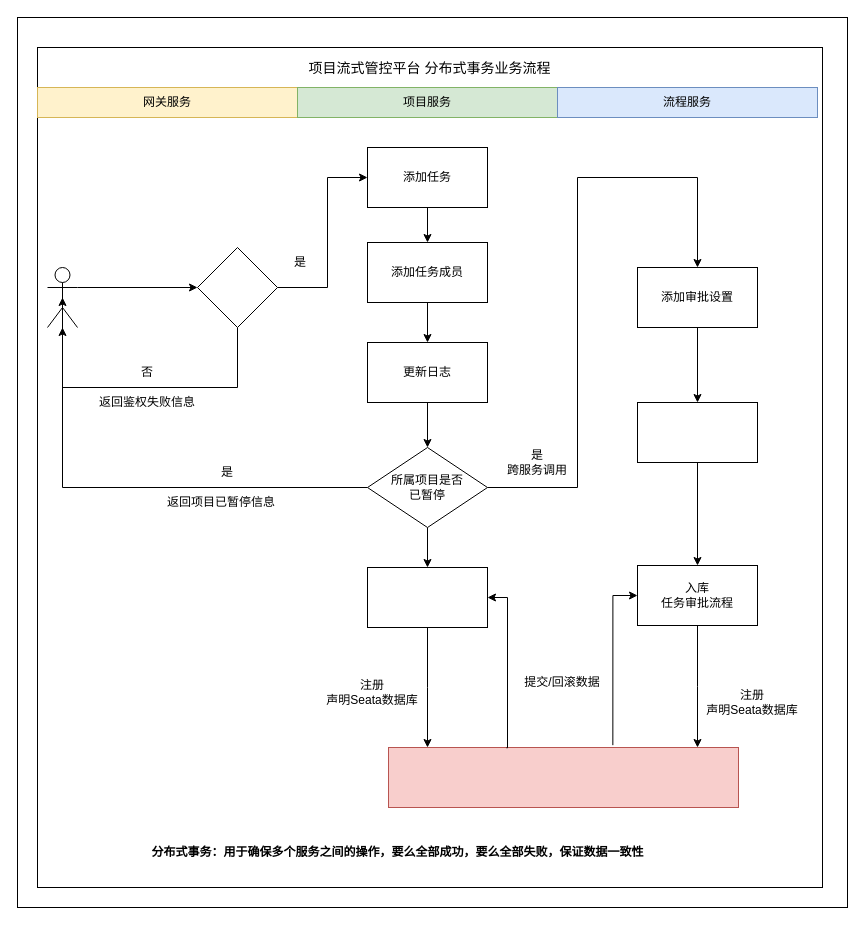
The diagram is 865 pixels wide and 925 high, and some of its shapes have lost their labels. The box of each missing label's shape, as (x1, y1, x2, y2) in pixels:
Seata-AT模式 事务管理器: (388, 746, 738, 808)
入库 任务指派消息提醒: (366, 566, 488, 628)
内部认证: (636, 402, 758, 462)
是否通过 鉴权: (196, 246, 278, 328)
